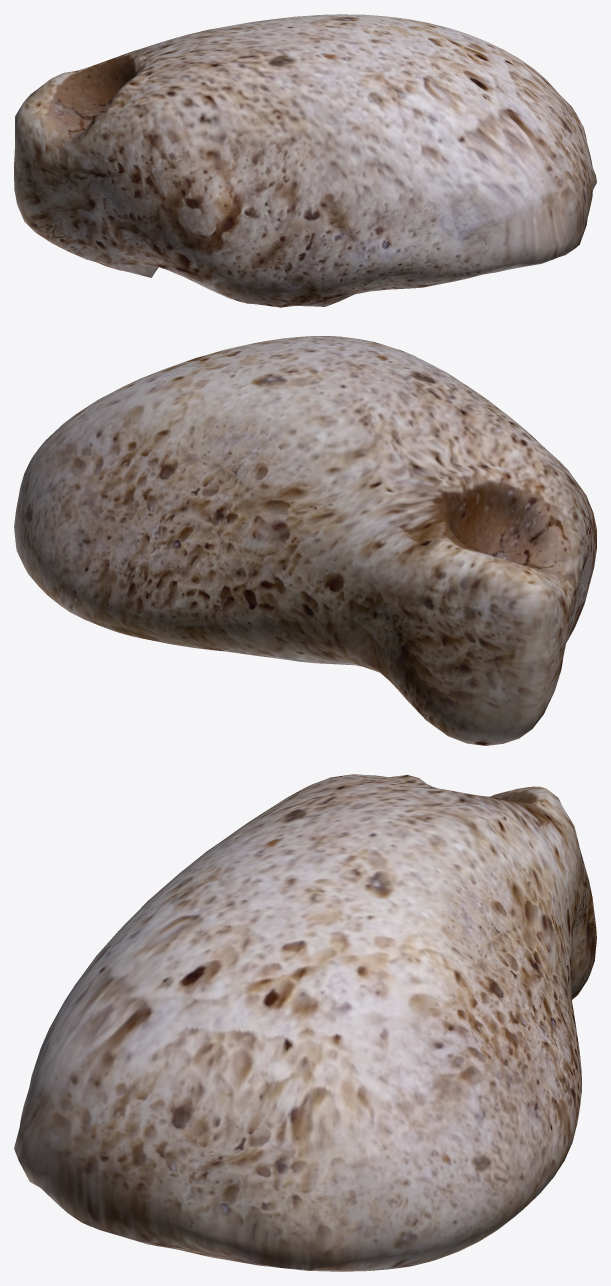
File: BeachRock6.fbx
The picture shows the model from 3 angles, top to bottom: view 1: azimuth 30°, elevation 25°; view 2: azimuth 150°, elevation 25°; view 3: azimuth 270°, elevation 25°; orthographic projection. The views are drawn at different scales.
Visible parts, largest first — view 1: BeachRock6_LOD0; view 2: BeachRock6_LOD0; view 3: BeachRock6_LOD0.
Boxes of the visible parts, <box> form: BeachRock6_LOD0: <box>14,14,596,307</box>; BeachRock6_LOD0: <box>14,336,596,745</box>; BeachRock6_LOD0: <box>14,774,596,1271</box>.
Size of what is drawn, in the model's own units: 33.47 by 15.01 by 24.64.
